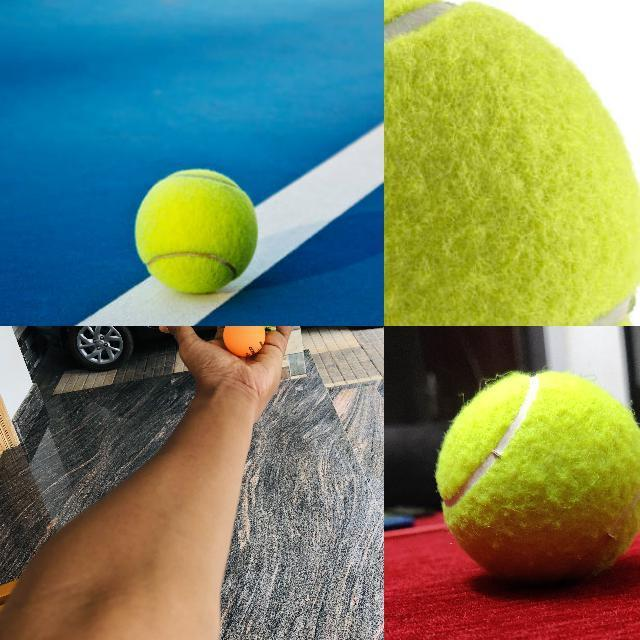tennis-ball: (384, 0, 639, 325), (434, 366, 639, 589), (134, 167, 259, 293)
